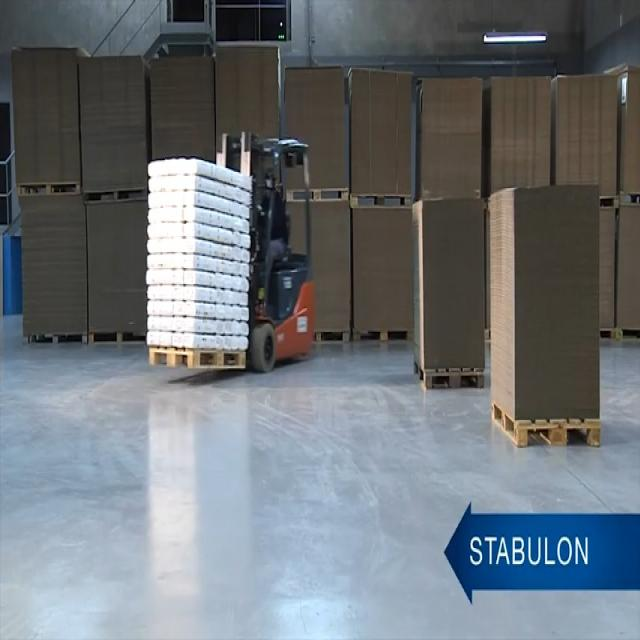Chariot elevateur: (221, 130, 327, 382)
Palette: (488, 404, 604, 460), (410, 354, 491, 390), (150, 344, 250, 373), (286, 178, 349, 214), (349, 319, 416, 352), (347, 188, 419, 216), (15, 172, 80, 203), (21, 326, 89, 351), (596, 318, 640, 353), (83, 184, 146, 208), (90, 326, 145, 346), (594, 193, 640, 215), (312, 328, 354, 349)
